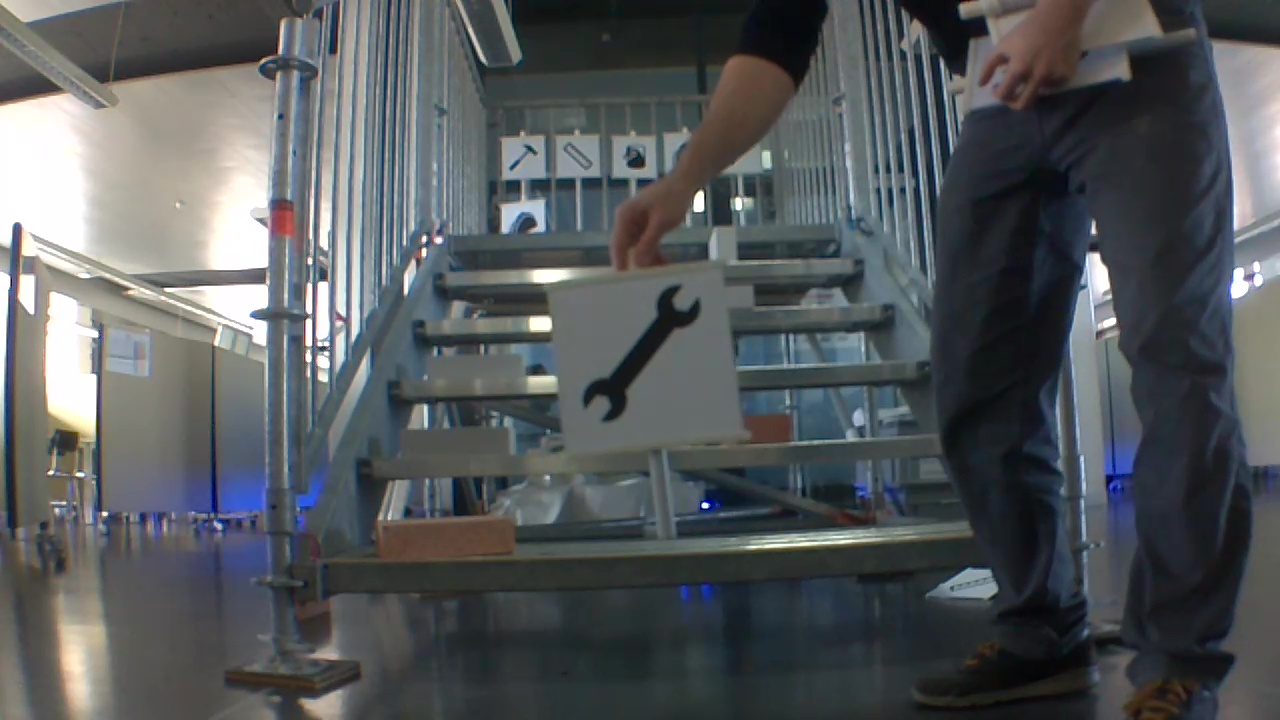brick: (372, 513, 516, 560), (395, 424, 519, 458), (424, 352, 528, 384), (742, 414, 794, 438), (709, 225, 739, 260)
bucket: (621, 139, 649, 172)
edge: (317, 534, 971, 599)
hammer: (505, 141, 539, 173)
ruler: (562, 142, 595, 173)
taco: (510, 210, 543, 232)
wrench: (581, 282, 705, 421)
